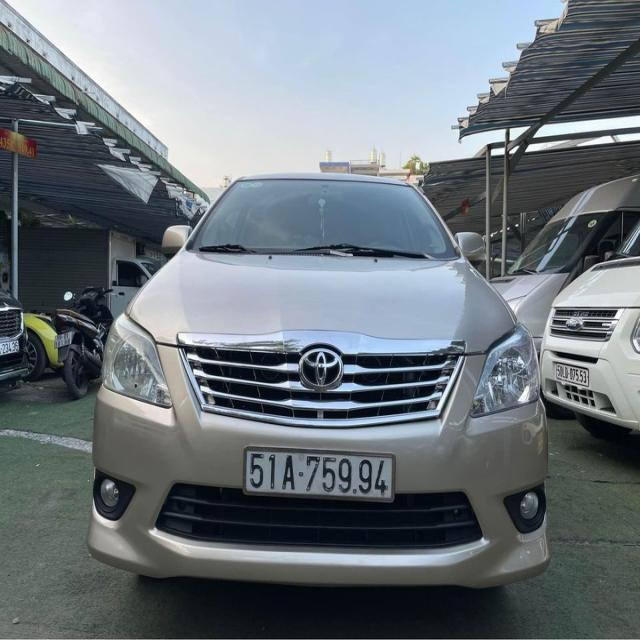car: (92, 170, 555, 602), (536, 213, 638, 470), (8, 300, 105, 400)
motorcycle: (13, 300, 106, 401)
plate: (240, 445, 401, 503), (553, 359, 594, 388), (0, 334, 21, 358)
